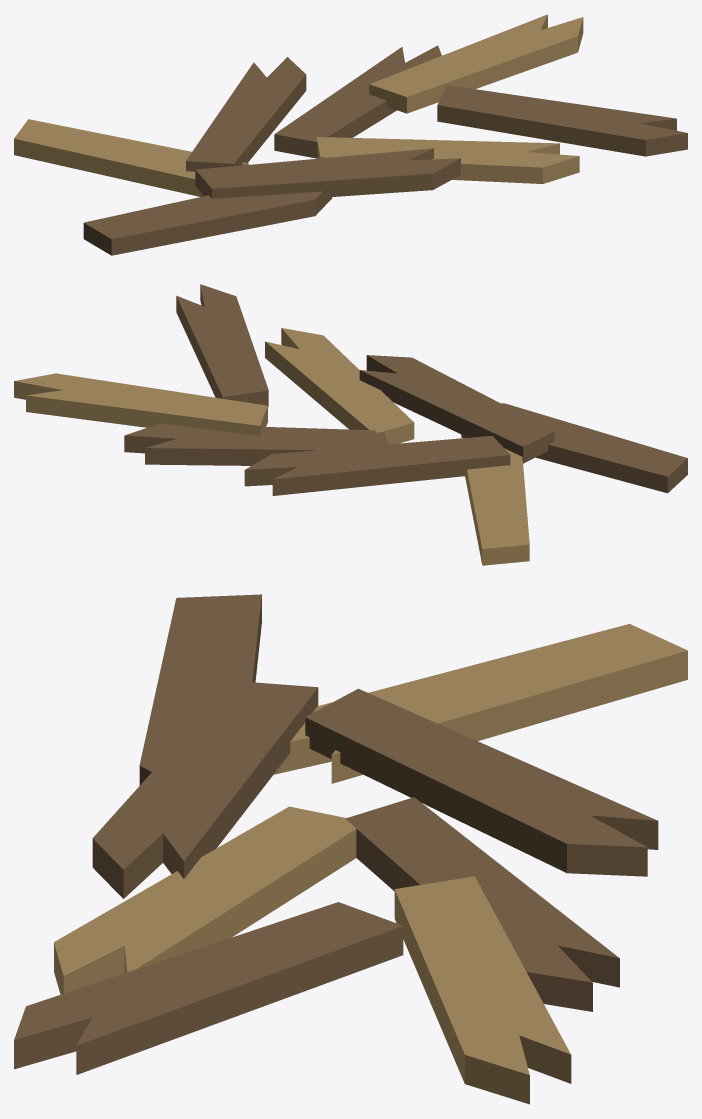
The model's file is pallet-broken.glb.
The picture shows the model from 3 angles, top to bottom: view 1: azimuth 30°, elevation 25°; view 2: azimuth 150°, elevation 25°; view 3: azimuth 270°, elevation 25°; orthographic projection. The views are drawn at different scales.
Visible parts, largest first — view 1: Pallet_broken_Splintered_oak, Pallet_broken_Fresh_wood; view 2: Pallet_broken_Splintered_oak, Pallet_broken_Fresh_wood; view 3: Pallet_broken_Splintered_oak, Pallet_broken_Fresh_wood.
Part boxes in pixels (x1,y1,x2,y2): Pallet_broken_Splintered_oak: (83, 45, 687, 255); Pallet_broken_Fresh_wood: (14, 14, 583, 196); Pallet_broken_Splintered_oak: (124, 284, 687, 495); Pallet_broken_Fresh_wood: (14, 328, 529, 565); Pallet_broken_Splintered_oak: (14, 594, 658, 1074); Pallet_broken_Fresh_wood: (54, 624, 687, 1104).
Size of the model in its own units: 2.37 by 0.105 by 1.35.
